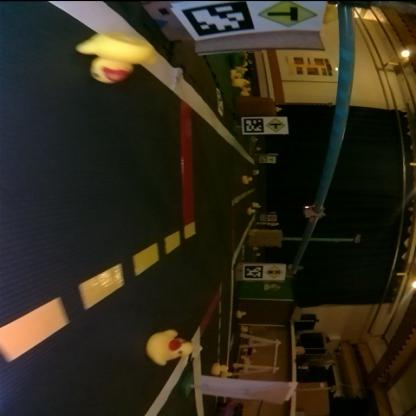Duckie: (77, 34, 155, 82), (150, 329, 194, 365), (214, 364, 229, 374), (232, 69, 242, 79), (243, 175, 253, 184), (249, 207, 256, 214), (238, 310, 246, 316)
Intersection sign: (259, 2, 319, 28), (268, 117, 288, 131), (268, 156, 275, 162)
QR code: (172, 2, 256, 40), (244, 117, 264, 133), (244, 264, 264, 280), (218, 88, 226, 116)
Signal sign: (266, 268, 284, 280)
Traffic light: (303, 204, 327, 219)
